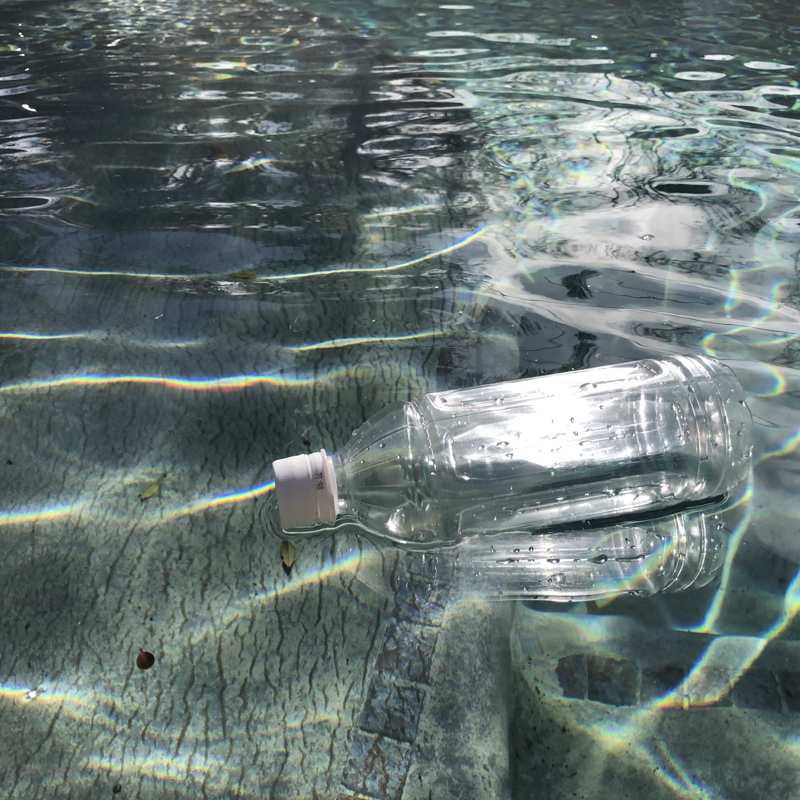Plastic Bottle: (266, 351, 761, 556)
